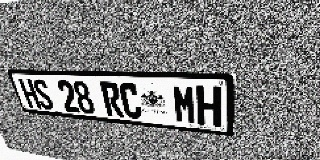2: (56, 80, 80, 113)
8: (71, 81, 96, 114)
C: (118, 82, 143, 119)
H: (196, 85, 221, 127), (18, 79, 42, 109)
M: (172, 84, 197, 125)
R: (100, 82, 124, 117)
S: (31, 79, 55, 110)
